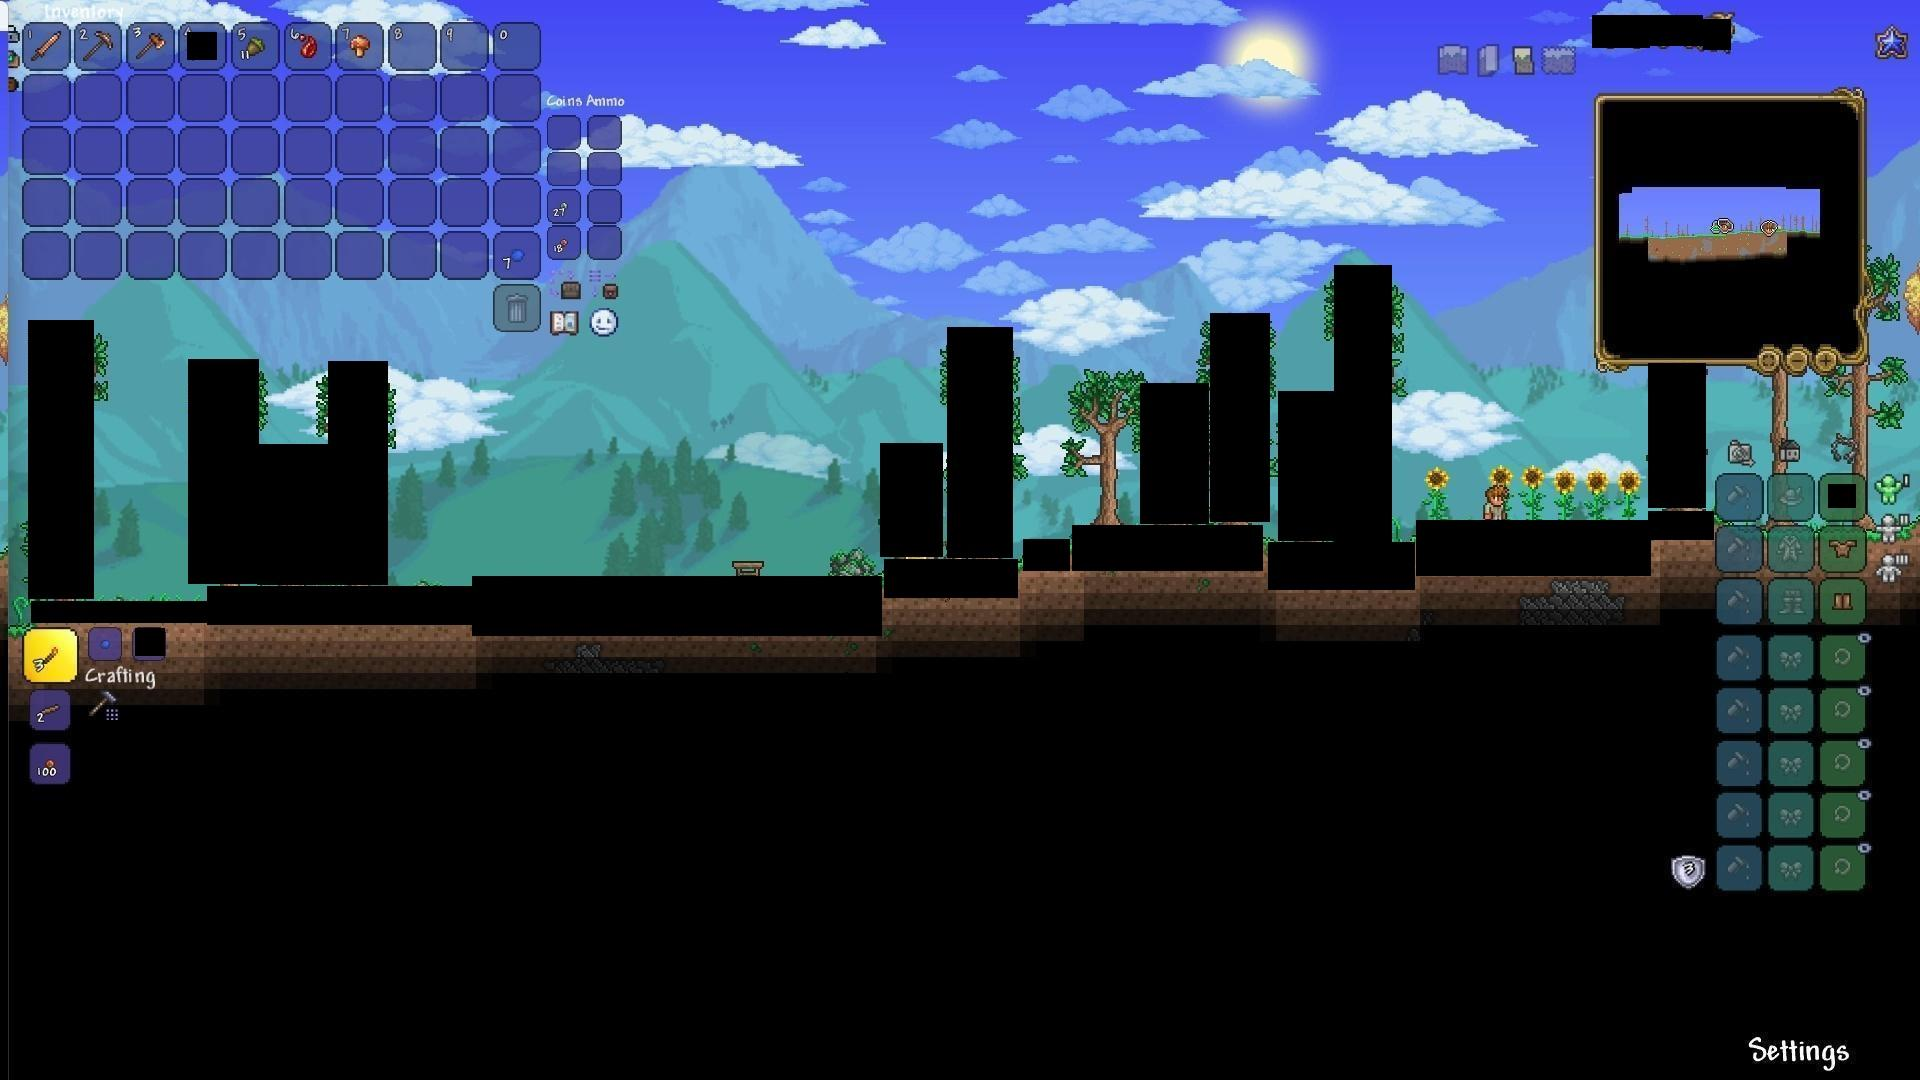breastplate: (1830, 538, 1858, 559)
legs: (1830, 588, 1857, 615)
tree: (1837, 247, 1894, 479), (1065, 367, 1142, 522)
workbench: (728, 556, 765, 582)
